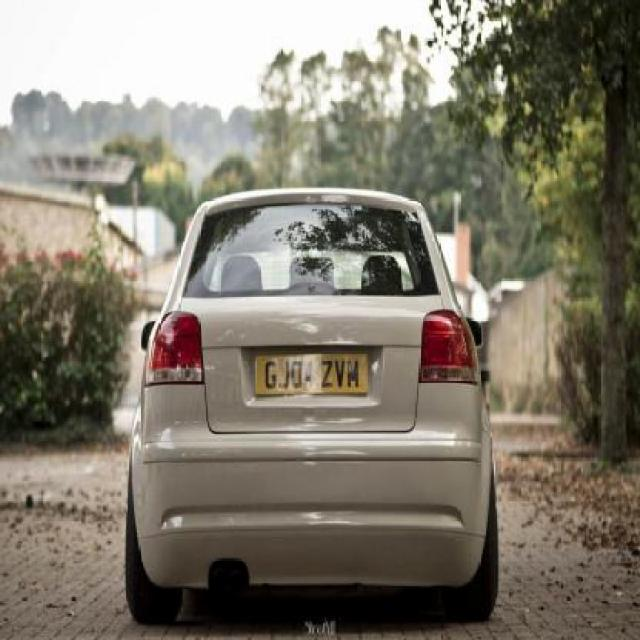License-Plates: (254, 350, 370, 396)
